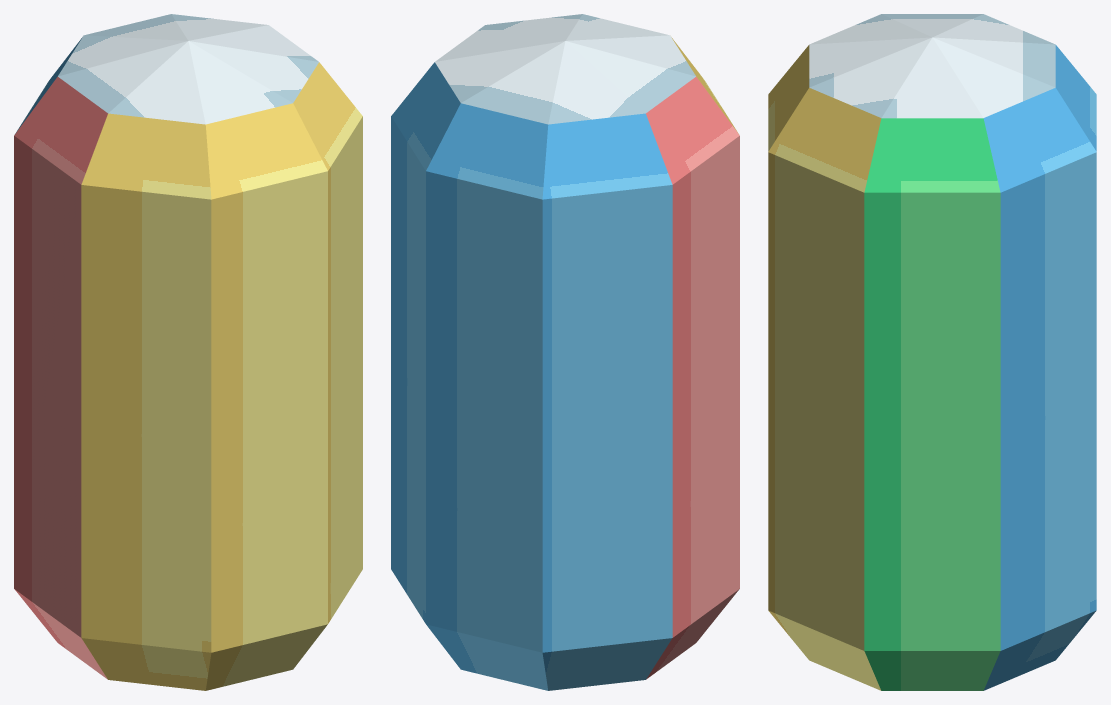
Rendered from plutonium_b.obj.
The picture shows the model from 3 angles, left to right: view 1: azimuth 30°, elevation 25°; view 2: azimuth 150°, elevation 25°; view 3: azimuth 270°, elevation 25°; orthographic projection.
Parts seen in each view (by area): view 1: body; view 2: body; view 3: body.
Boxes of the visible parts, x1=… form: body: x1=14, y1=14, x2=362, y2=690; body: x1=391, y1=14, x2=739, y2=690; body: x1=768, y1=14, x2=1096, y2=690.
Size of the model in its own units: 0.1625 by 0.3438 by 0.1625.
Materials: 1 (1 with a texture image).
